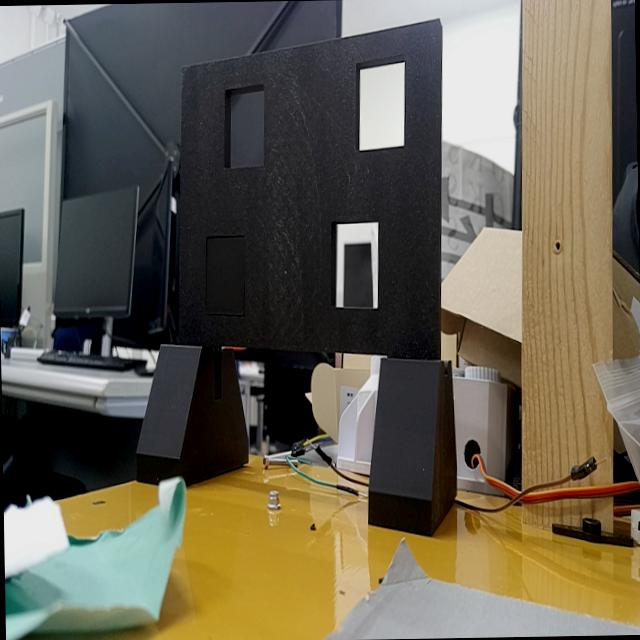Obstacle: (359, 61, 405, 150), (335, 222, 378, 306), (225, 86, 263, 166)
Wall: (179, 19, 441, 358)
